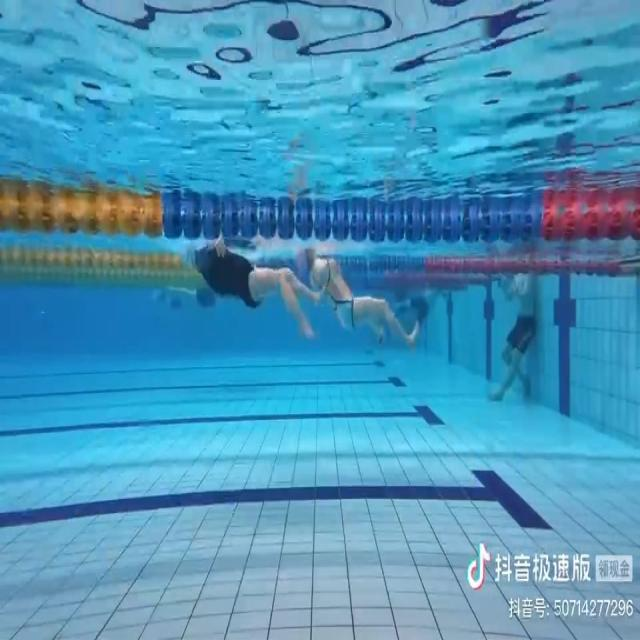Swimming: (185, 235, 320, 338), (296, 244, 422, 347)
